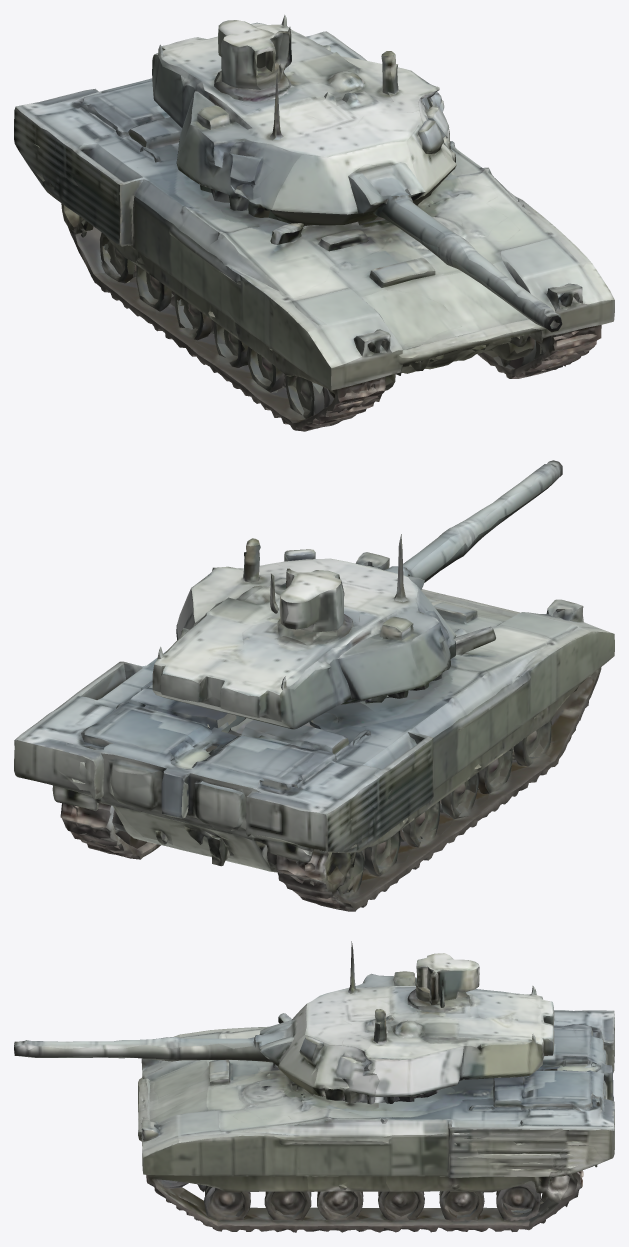
File: land_main.glb
The picture shows the model from 3 angles, top to bottom: view 1: azimuth 30°, elevation 25°; view 2: azimuth 150°, elevation 25°; view 3: azimuth 270°, elevation 25°; orthographic projection. The views are drawn at different scales.
Parts seen in each view (by area): view 1: geometry_0; view 2: geometry_0; view 3: geometry_0.
Boxes of the visible parts, x1,y1,x2,y2 form: geometry_0: (14, 14, 614, 431); geometry_0: (14, 460, 614, 911); geometry_0: (14, 941, 614, 1232).
Size of the model in its own units: 9.8 by 8.43 by 20.8.
1 material, 1 textured.
